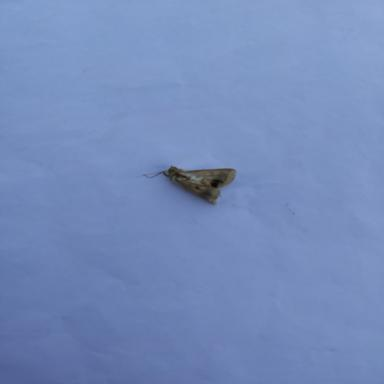abw: (136, 162, 240, 207)
